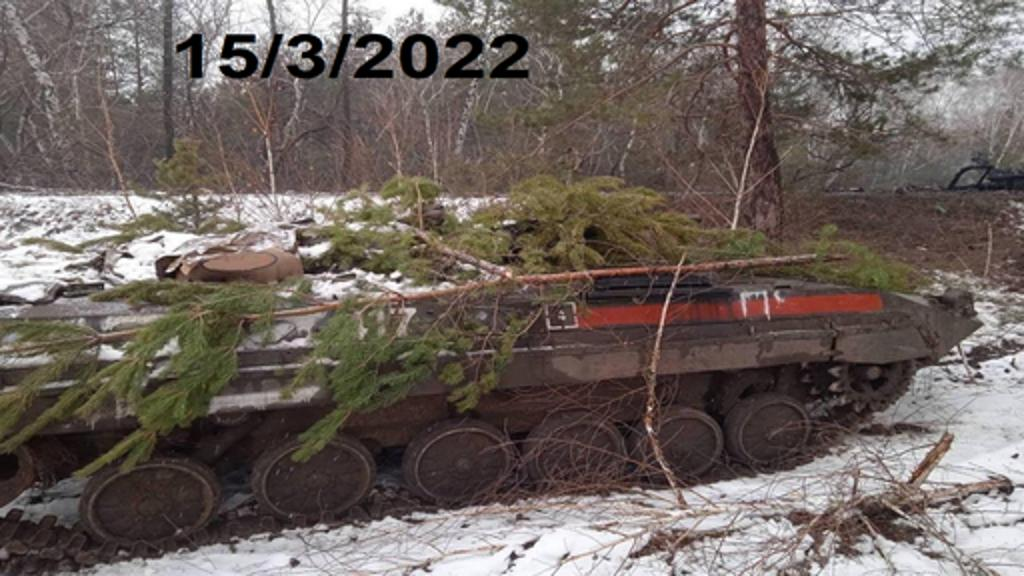APC-IFV: (0, 186, 974, 548)
